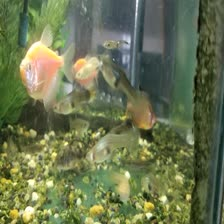Guppy: (84, 127, 140, 166), (104, 168, 132, 206)
Kiros: (49, 136, 98, 171)
Plano: (16, 23, 78, 104)
Transparente: (120, 86, 159, 130)
